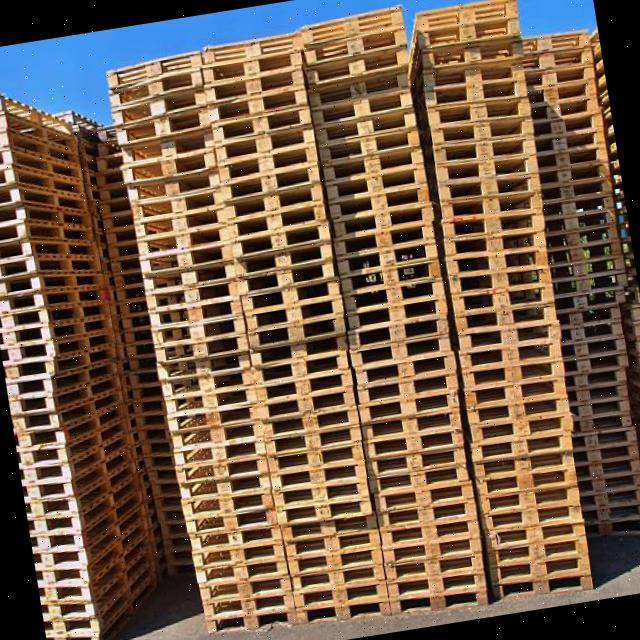Wooden-Pallets: (436, 201, 547, 248), (466, 402, 575, 449), (457, 332, 565, 376), (368, 459, 470, 504), (271, 452, 366, 496), (142, 272, 240, 314), (240, 298, 348, 336), (100, 51, 204, 90), (154, 363, 252, 403), (290, 542, 382, 584), (129, 224, 230, 260), (178, 484, 272, 520), (194, 571, 290, 605), (203, 52, 305, 83), (217, 147, 319, 178)
